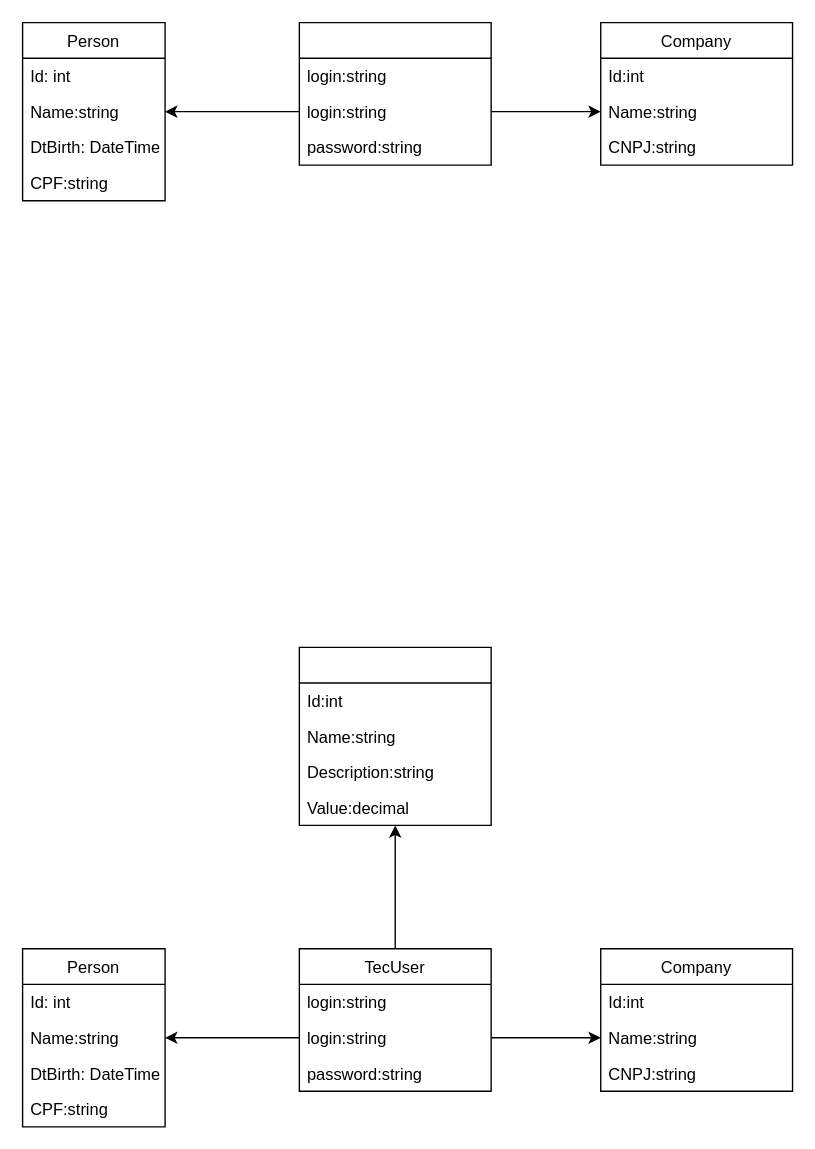
This 815x1149 diagram has some shape labels left out. The shapes that lost their labels are listed below. From the top down, each one's box as (x1, y1, x2, y2) in pixels, then its label:
(298, 21, 491, 165): User
(298, 646, 491, 825): Service
